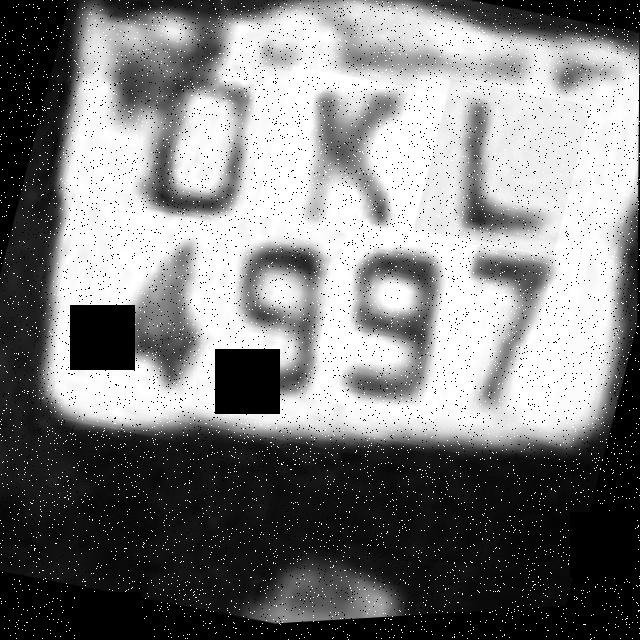4: (80, 202, 247, 422)
7: (411, 223, 591, 441)
9: (305, 219, 478, 434), (185, 215, 357, 426)
J: (413, 77, 591, 269)
O: (114, 34, 305, 248)
X: (254, 62, 448, 258)
